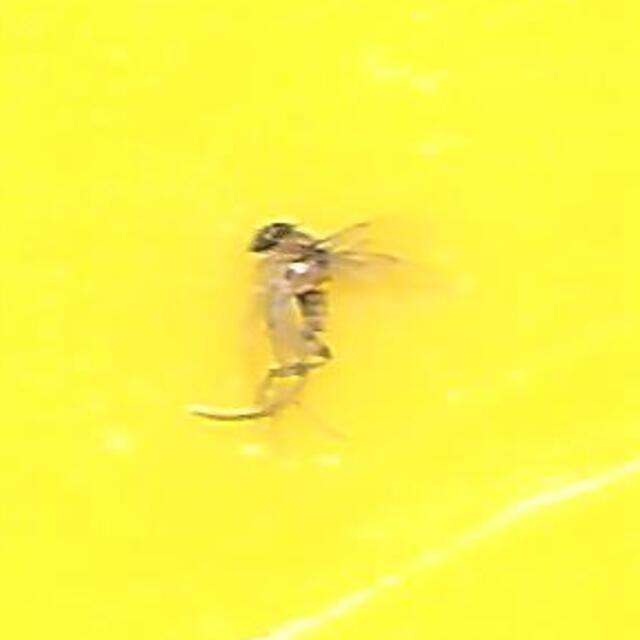Nematocera: (222, 208, 418, 432)
